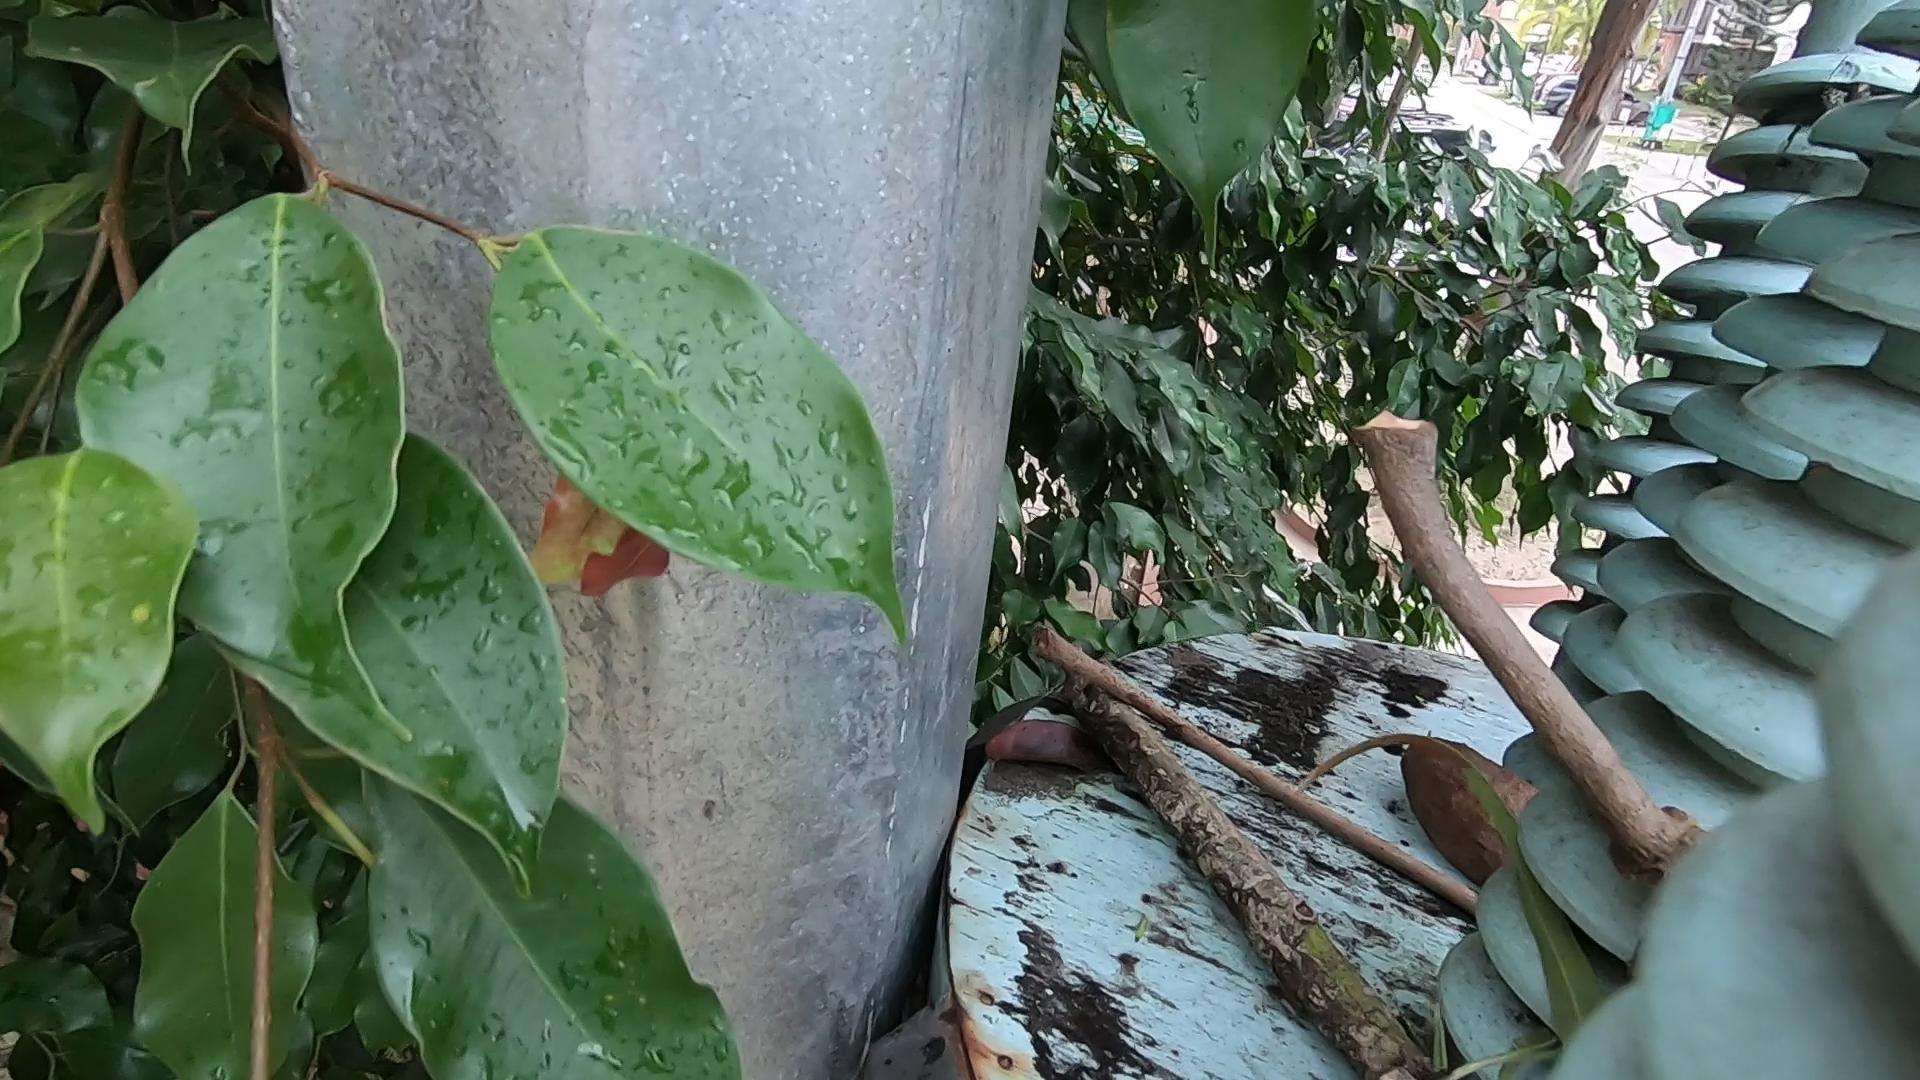branch with leaves: (1058, 665, 1407, 1080)
leaf: (996, 715, 1145, 781)
mahogany fruit: (1320, 663, 1568, 890)
tree branch: (1352, 351, 1677, 890), (1022, 628, 1474, 932)
